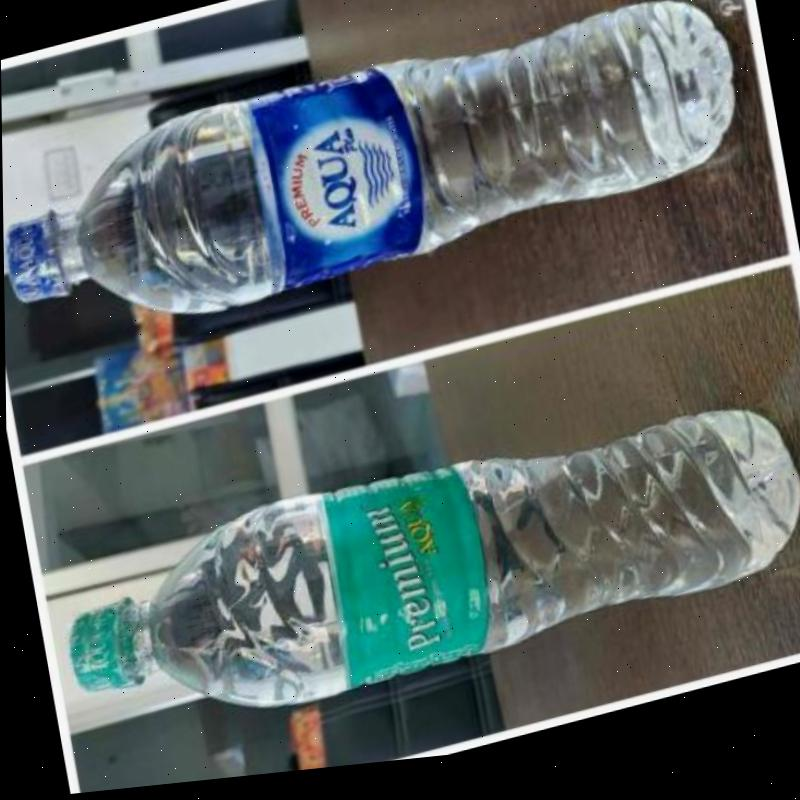botella: (52, 387, 800, 765), (0, 0, 753, 363)
